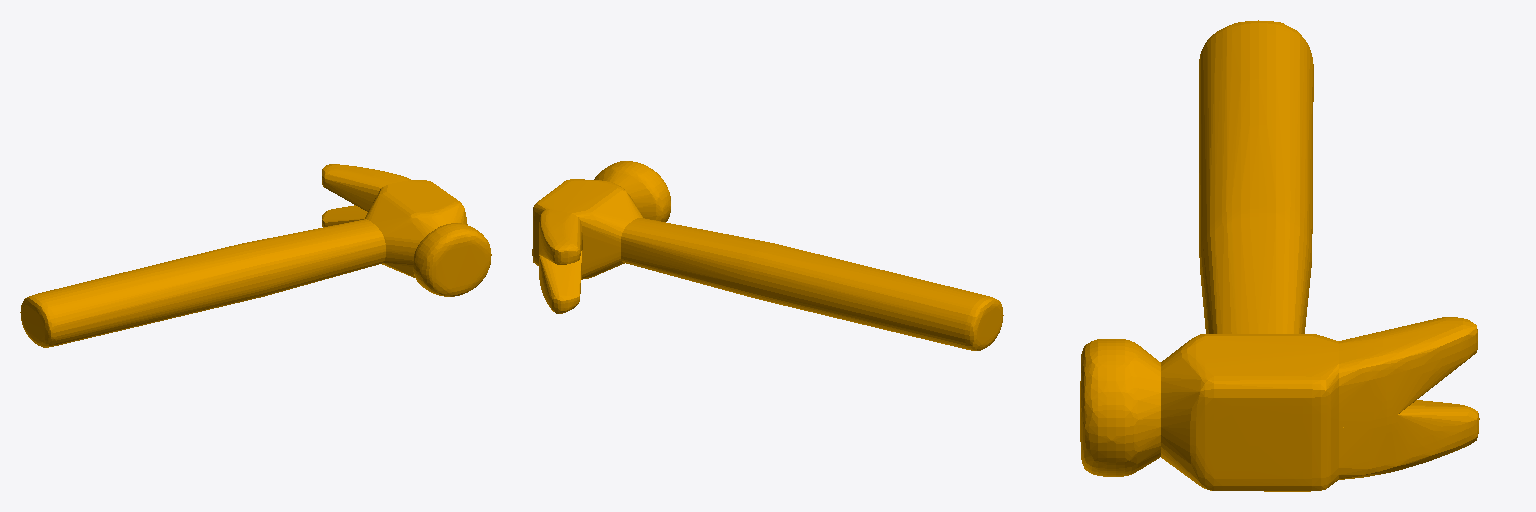
The robot description file, URDF, robot "claw_hammer":
<?xml version='1.0' encoding='utf-8'?>
<robot name="claw_hammer">
  <link name="claw_hammer">
    <visual>
      <origin xyz="0 0 0" rpy="0 0 0" />
      <geometry>
        <mesh filename="claw_hammer.obj" scale="1 1 1" />
      </geometry>
    </visual>
    <collision>
      <origin xyz="0 0 0" rpy="0 0 0" />
      <geometry>
        <mesh filename="claw_hammer_collision/decomp_0.obj" scale="1 1 1" />
      </geometry>
    </collision>
    <collision>
      <origin xyz="0 0 0" rpy="0 0 0" />
      <geometry>
        <mesh filename="claw_hammer_collision/decomp_1.obj" scale="1 1 1" />
      </geometry>
    </collision>
    <collision>
      <origin xyz="0 0 0" rpy="0 0 0" />
      <geometry>
        <mesh filename="claw_hammer_collision/decomp_2.obj" scale="1 1 1" />
      </geometry>
    </collision>
    <collision>
      <origin xyz="0 0 0" rpy="0 0 0" />
      <geometry>
        <mesh filename="claw_hammer_collision/decomp_3.obj" scale="1 1 1" />
      </geometry>
    </collision>
    <collision>
      <origin xyz="0 0 0" rpy="0 0 0" />
      <geometry>
        <mesh filename="claw_hammer_collision/decomp_4.obj" scale="1 1 1" />
      </geometry>
    </collision>
    <inertial>
      <origin xyz="0.0710074 -0.000954556 3.40549e-06" rpy="0 0 0" />
      <mass value="0.0478283" />
      <inertia ixx="1.32166e-05" ixy="1.09048e-06" ixz="5.47561e-07" iyy="0.000180518" iyz="-6.00857e-08" izz="0.000189688" />
    </inertial>
  </link>
</robot>

--- What the picture shows (computed from the rendered views, not written in the file) ---
The picture shows the robot from 3 angles, left to right: view 1: azimuth 30°, elevation 25°; view 2: azimuth 150°, elevation 25°; view 3: azimuth 270°, elevation 25°; orthographic projection.
Robot: claw_hammer — 1 links, 0 joints (none); root link claw_hammer; default pose: every joint at zero.
Visible links, largest first — view 1: claw_hammer; view 2: claw_hammer; view 3: claw_hammer.
Boxes of the visible links, box(x1,y1,x2,y2) form: claw_hammer: box(20, 164, 491, 347); claw_hammer: box(532, 161, 1003, 350); claw_hammer: box(1080, 20, 1479, 491).
Bounding box of the posed robot: 0.1971 × 0.0874 × 0.03 m (x, y, z).
1 mesh visuals loaded from 1 distinct referenced files (1 OBJ).
